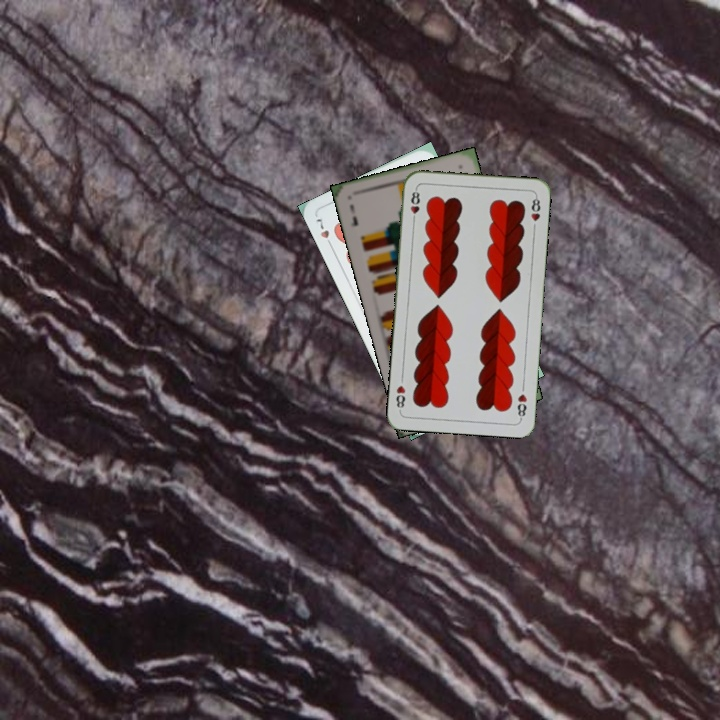E7: (346, 201, 361, 228)
H7: (312, 214, 336, 251)
H8: (406, 185, 422, 225), (514, 390, 529, 421)
